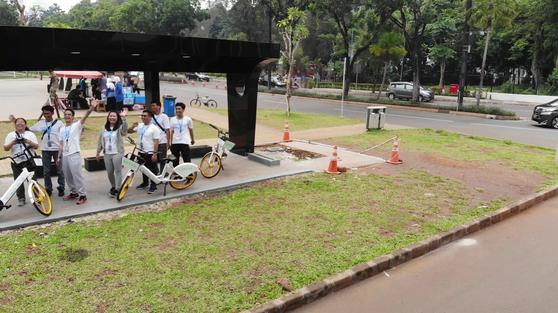bike: (110, 133, 205, 208), (1, 145, 62, 225), (195, 117, 243, 186)
